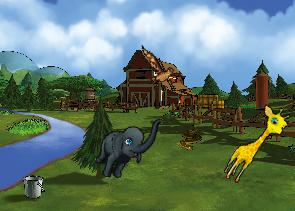eagle: (131, 45, 186, 93)
elephant: (92, 106, 163, 187)
giraffe: (219, 99, 294, 191)
